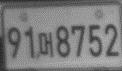1: (22, 26, 37, 58)
2: (104, 23, 119, 57)
5: (87, 24, 102, 57)
7: (71, 25, 86, 56)
8: (55, 25, 69, 57)
9: (7, 26, 21, 57)
머: (37, 32, 54, 57)
